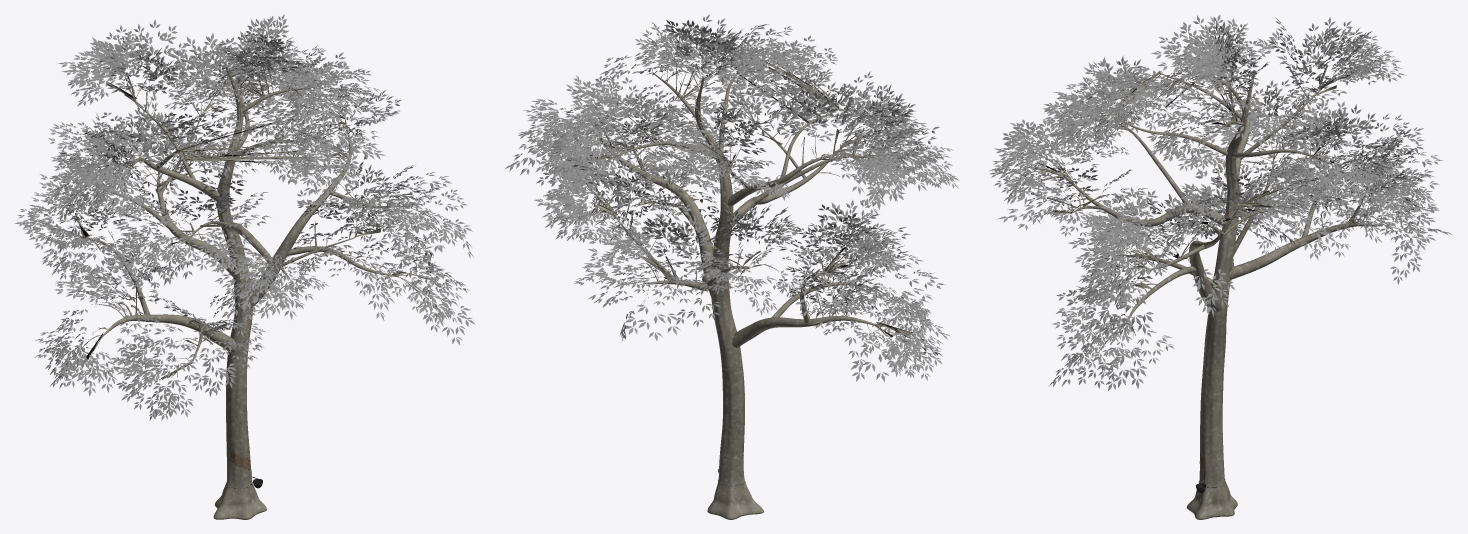
File: RT_Mature_A_LOD1.glb
The picture shows the model from 3 angles, left to right: view 1: azimuth 30°, elevation 25°; view 2: azimuth 150°, elevation 25°; view 3: azimuth 270°, elevation 25°; orthographic projection. The views are drawn at different scales.
Visible parts, largest first — view 1: RT_Mature_A_LOD1_Foliage, RT_Mature_A_LOD1_Body; view 2: RT_Mature_A_LOD1_Foliage, RT_Mature_A_LOD1_Body; view 3: RT_Mature_A_LOD1_Foliage, RT_Mature_A_LOD1_Body.
Boxes of the visible parts, left/top/right/bottom form: RT_Mature_A_LOD1_Foliage: left=14, top=14, right=475, bottom=420; RT_Mature_A_LOD1_Body: left=53, top=55, right=432, bottom=519; RT_Mature_A_LOD1_Foliage: left=505, top=14, right=959, bottom=381; RT_Mature_A_LOD1_Body: left=575, top=46, right=918, bottom=519; RT_Mature_A_LOD1_Foliage: left=989, top=14, right=1451, bottom=390; RT_Mature_A_LOD1_Body: left=1032, top=65, right=1399, bottom=519.
Bounding box in the file's own units: 11.61 × 13.91 × 12.01.
2 materials, 1 textured.
